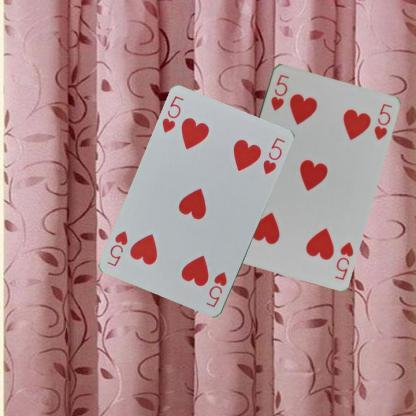5h: (160, 93, 186, 135), (203, 269, 229, 309), (332, 238, 354, 280), (268, 71, 290, 112)
